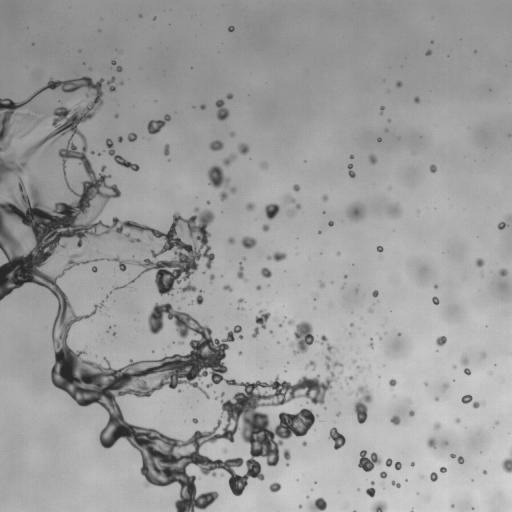droplet: (207, 165, 229, 188), (358, 450, 381, 471), (346, 202, 365, 221), (329, 427, 345, 449), (216, 99, 229, 120), (308, 497, 326, 511), (265, 203, 279, 219), (388, 204, 401, 218), (241, 236, 256, 248), (371, 500, 386, 511), (209, 140, 223, 151), (366, 481, 375, 497), (223, 154, 235, 165), (106, 77, 115, 91), (238, 143, 249, 154), (261, 267, 272, 278), (269, 482, 281, 492), (436, 336, 446, 346), (390, 415, 400, 425), (305, 360, 316, 369), (461, 394, 472, 403), (427, 437, 436, 448), (127, 133, 137, 141), (368, 154, 376, 164), (476, 258, 484, 267), (245, 203, 255, 210), (220, 191, 227, 200), (498, 222, 507, 229), (430, 472, 437, 481), (499, 269, 507, 276), (432, 296, 439, 304), (461, 357, 468, 365), (389, 379, 396, 387), (472, 401, 480, 408), (164, 144, 169, 155), (223, 285, 232, 291), (391, 481, 400, 487), (262, 224, 269, 231), (433, 422, 440, 429), (457, 456, 464, 463), (430, 164, 436, 172), (261, 161, 267, 168), (293, 184, 299, 191), (228, 237, 234, 244), (376, 246, 383, 252), (372, 290, 378, 297), (464, 368, 470, 375), (380, 471, 386, 478), (230, 187, 236, 193), (238, 298, 244, 304), (322, 194, 327, 201), (356, 365, 361, 372), (228, 26, 234, 31), (116, 66, 122, 71), (396, 81, 401, 87), (227, 93, 232, 99), (414, 97, 419, 103), (92, 266, 97, 272), (319, 281, 324, 287), (192, 418, 198, 423), (440, 467, 446, 472), (380, 106, 384, 113), (426, 50, 431, 55), (111, 60, 116, 65), (200, 104, 205, 109), (328, 221, 333, 226), (278, 322, 283, 327), (443, 383, 448, 388), (409, 411, 414, 416), (455, 418, 460, 423), (118, 136, 122, 142), (210, 274, 214, 280), (369, 342, 373, 348), (289, 211, 294, 215), (302, 441, 306, 446), (450, 454, 455, 458), (230, 132, 234, 136), (256, 285, 260, 289), (223, 448, 226, 453), (85, 93, 89, 96), (377, 138, 381, 141), (313, 295, 316, 299), (348, 391, 352, 394), (411, 462, 414, 466), (483, 470, 486, 474), (115, 114, 118, 117), (91, 151, 94, 154), (350, 155, 353, 158), (206, 201, 209, 204), (337, 252, 340, 255), (434, 285, 437, 288), (369, 309, 372, 312), (350, 323, 353, 326), (482, 353, 485, 356), (435, 397, 438, 400), (337, 412, 340, 415), (495, 421, 498, 424), (299, 505, 302, 508), (318, 231, 321, 233), (344, 275, 347, 277), (270, 330, 272, 333), (352, 360, 355, 362), (120, 82, 122, 84), (239, 307, 241, 309), (107, 329, 109, 331), (113, 333, 115, 335), (398, 333, 400, 335), (379, 337, 381, 339), (239, 352, 241, 354), (453, 366, 455, 368), (445, 442, 447, 444)
ligament: (0, 78, 337, 511), (106, 138, 139, 171), (354, 385, 372, 423), (252, 309, 270, 337), (147, 114, 170, 134), (113, 274, 140, 290), (502, 448, 511, 473), (284, 195, 300, 209), (385, 458, 401, 470), (267, 251, 286, 261), (237, 262, 246, 281), (283, 449, 290, 466), (348, 164, 355, 178), (196, 290, 203, 304), (345, 375, 355, 383), (94, 258, 103, 261), (22, 114, 29, 117)
